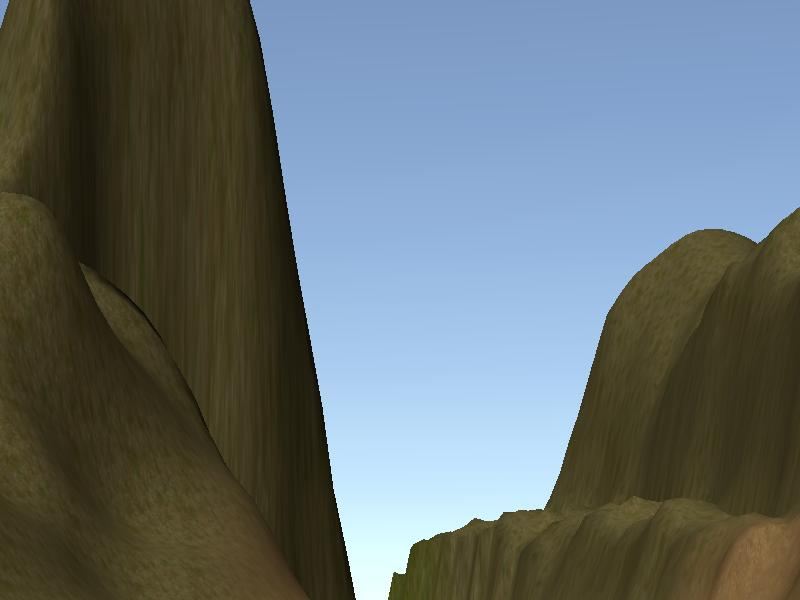background: (1, 3, 798, 597)
